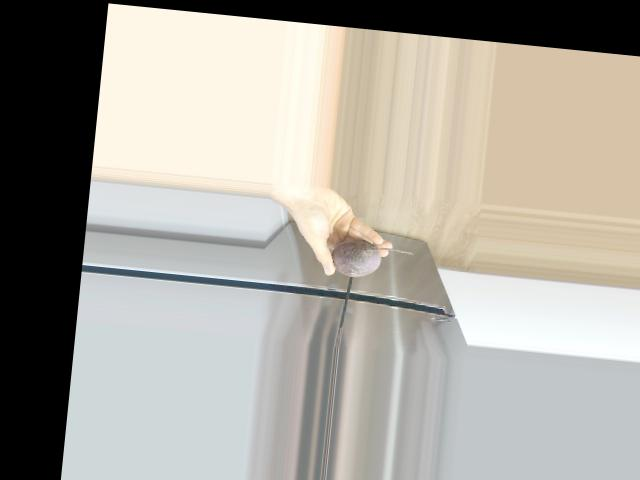beet: (330, 237, 415, 282)
